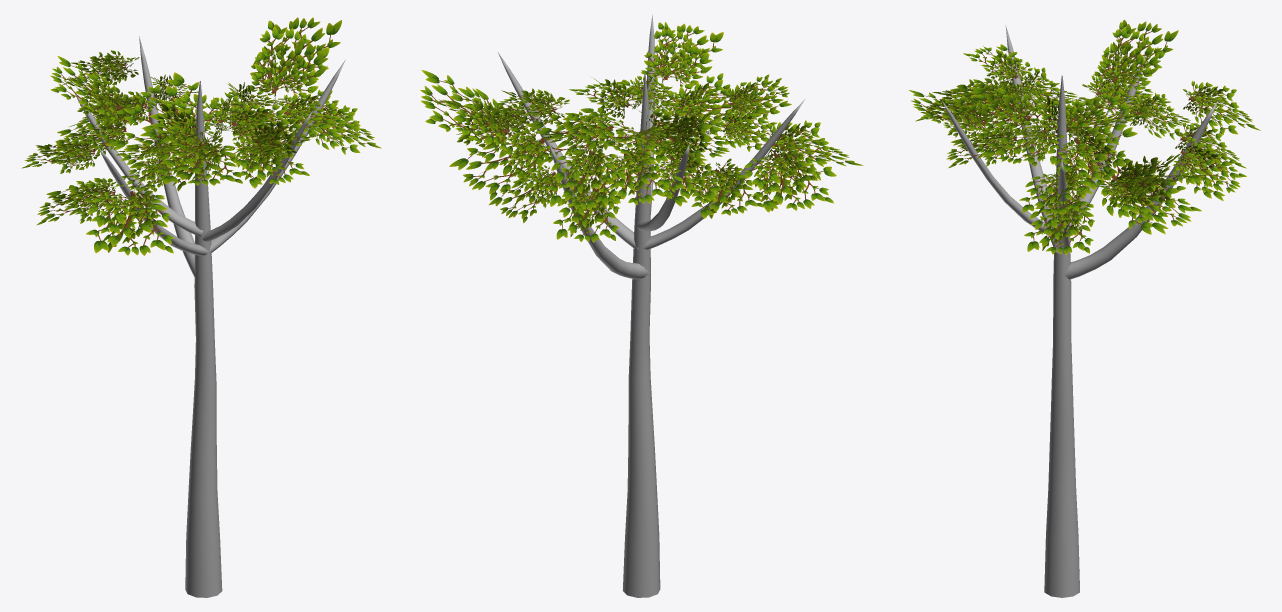
The model's file is Decay.fbx.
The picture shows the model from 3 angles, left to right: view 1: azimuth 30°, elevation 25°; view 2: azimuth 150°, elevation 25°; view 3: azimuth 270°, elevation 25°; orthographic projection.
Visible parts, largest first — view 1: Decay_Leaves, Decay_Tree; view 2: Decay_Leaves, Decay_Tree; view 3: Decay_Leaves, Decay_Tree.
Boxes of the visible parts, bbox=[...] form: Decay_Leaves: bbox=[21, 17, 381, 255]; Decay_Tree: bbox=[73, 36, 345, 597]; Decay_Leaves: bbox=[420, 22, 863, 242]; Decay_Tree: bbox=[498, 14, 804, 597]; Decay_Leaves: bbox=[909, 19, 1260, 254]; Decay_Tree: bbox=[942, 25, 1218, 597].
Bounding box in the file's own units: 4.36 × 5.84 × 3.69.
